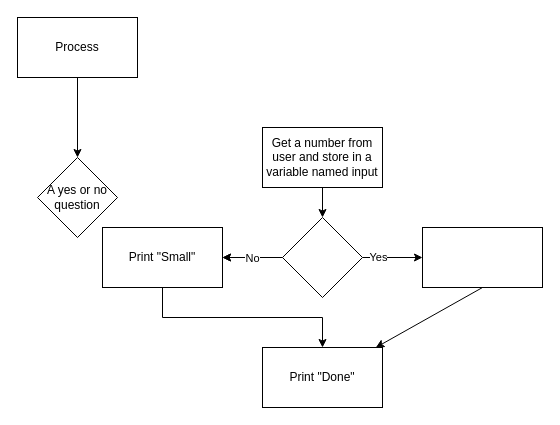
Some shapes in this 560 by 425 pixel diagram are drawn without their labels. The shapes that lost their labels are listed below. From the top down, each one's box as (x1, y1, x2, y2) in pixels, then its label:
(282, 216, 362, 298): Is the number big?
(422, 226, 542, 288): Print "Big"
